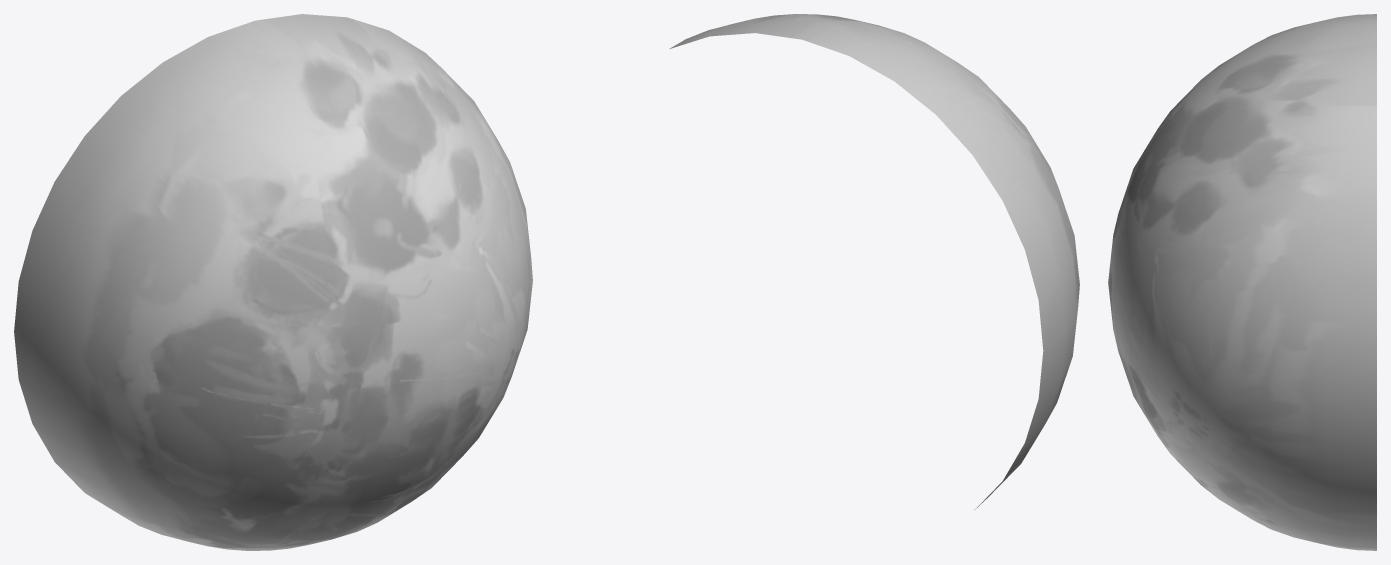
The model's file is moon2.glb.
3 renders of one model, left to right at view 1: azimuth 30°, elevation 25°; view 2: azimuth 150°, elevation 25°; view 3: azimuth 270°, elevation 25°, orthographic. The views are drawn at different scales.
Visible parts, largest first — view 1: Sphere; view 2: Sphere; view 3: Sphere.
Part boxes in pixels (box(x1,y1,x2,y2)): Sphere: box(14, 14, 532, 550); Sphere: box(669, 14, 1079, 510); Sphere: box(1108, 14, 1376, 550).
Bounding box in the file's own units: 2 × 2 × 1.
1 material, 1 textured.
